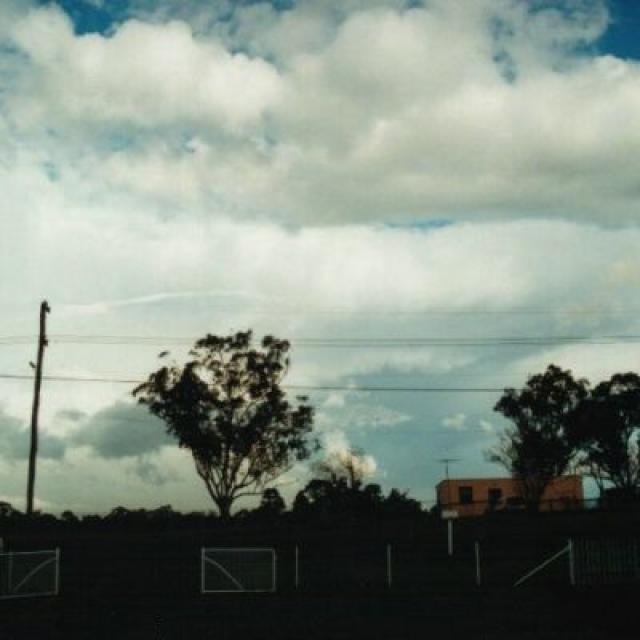St: (4, 1, 640, 286)
